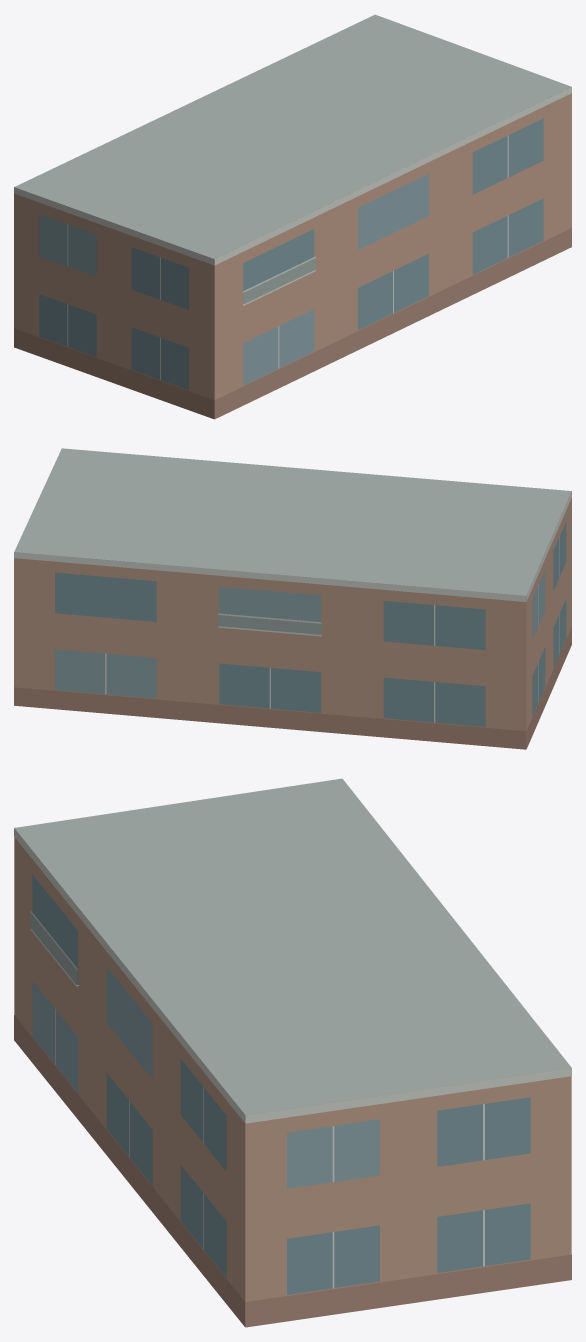
The model's file is survey-upis-32705892.glb.
The picture shows the model from 3 angles, top to bottom: view 1: azimuth 30°, elevation 25°; view 2: azimuth 150°, elevation 25°; view 3: azimuth 270°, elevation 25°; orthographic projection. The views are drawn at different scales.
Visible parts, largest first — view 1: survey-upis-32705892.tmp; view 2: survey-upis-32705892.tmp; view 3: survey-upis-32705892.tmp.
Boxes of the visible parts, bbox=[...] form: survey-upis-32705892.tmp: bbox=[14, 14, 571, 419]; survey-upis-32705892.tmp: bbox=[14, 448, 571, 749]; survey-upis-32705892.tmp: bbox=[14, 778, 571, 1327].
Size of the model in its own units: 20.77 by 6.1 by 14.54.
